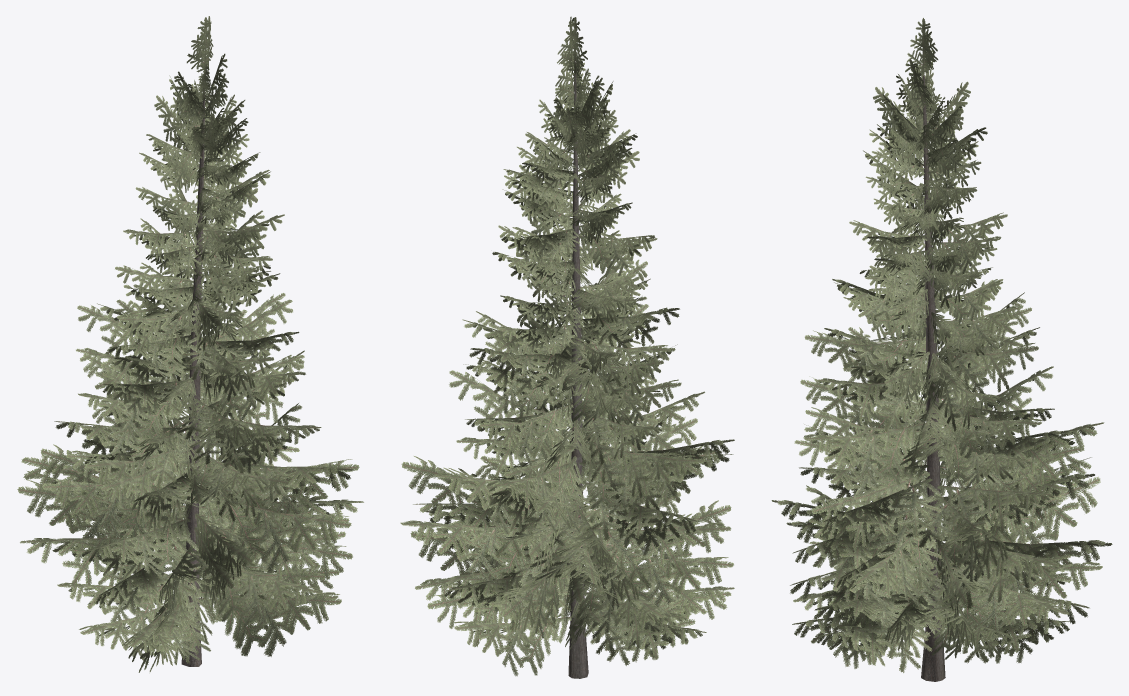
Rendered from Picea_Abies_Spring_Young.glb.
3 renders of one model, left to right at view 1: azimuth 30°, elevation 25°; view 2: azimuth 150°, elevation 25°; view 3: azimuth 270°, elevation 25°, orthographic. The views are drawn at different scales.
Parts seen in each view (by area): view 1: Picea_Abies_Spring_Young__LOD3; view 2: Picea_Abies_Spring_Young__LOD3; view 3: Picea_Abies_Spring_Young__LOD3.
Part boxes in pixels (x1,y1,x2,y2): Picea_Abies_Spring_Young__LOD3: (17,16,363,672); Picea_Abies_Spring_Young__LOD3: (400,16,734,678); Picea_Abies_Spring_Young__LOD3: (771,18,1112,681).
Size of the model in its own units: 7.7 by 16.5 by 7.75.
2 materials, 2 textured.
